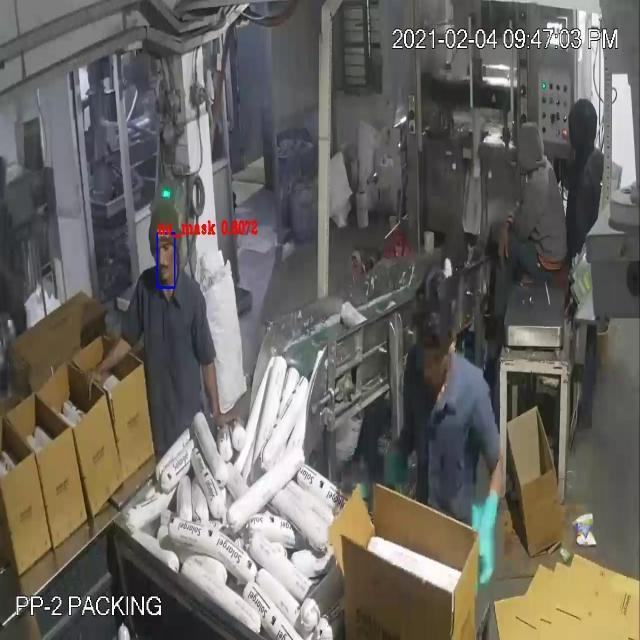No_Gloves: (32, 76, 482, 526)
